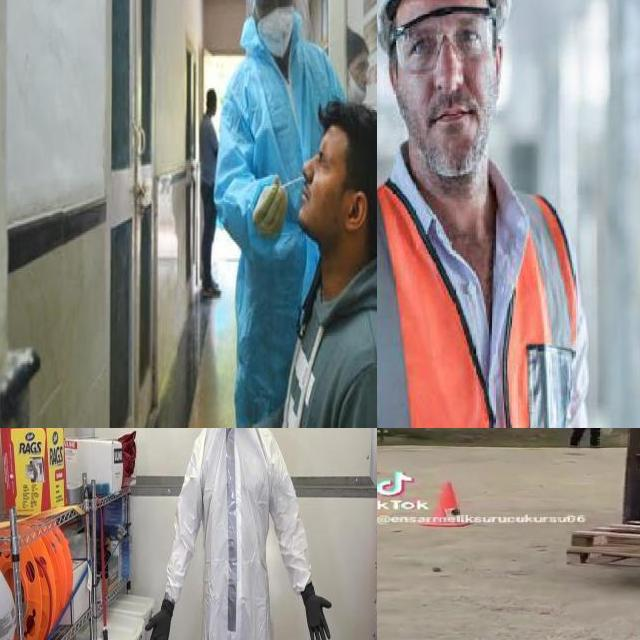GLASS: (388, 6, 503, 76)
GLOVE: (301, 581, 334, 640), (144, 598, 173, 640)
Glove: (254, 182, 286, 246)
HELMET: (377, 0, 514, 52)
MASK: (256, 6, 294, 59)
VEST: (377, 177, 578, 428)
